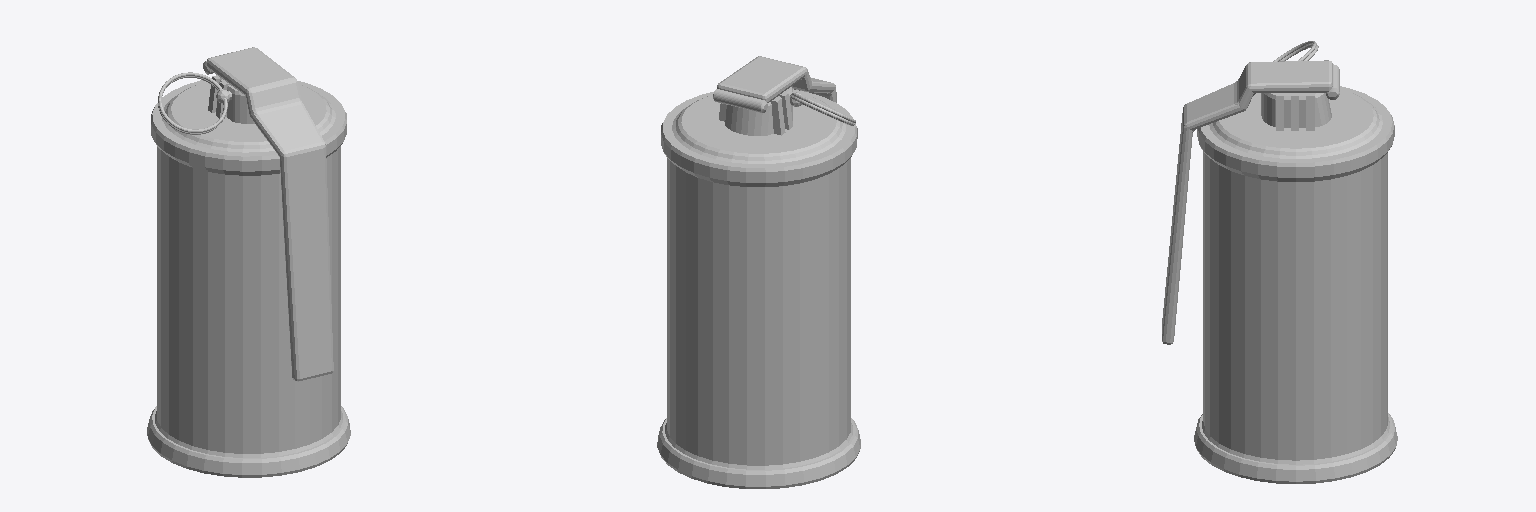
The model's file is Grenade_Closed.obj.
The picture shows the model from 3 angles: view 1: azimuth 30°, elevation 25°; view 2: azimuth 150°, elevation 25°; view 3: azimuth 270°, elevation 25°; orthographic projection.
Parts seen in each view (by area): view 1: Grenade_Closed_Cylinder.001; view 2: Grenade_Closed_Cylinder.001; view 3: Grenade_Closed_Cylinder.001.
Part boxes in pixels (left/top/right/bottom): Grenade_Closed_Cylinder.001: left=147, top=47, right=350, bottom=477; Grenade_Closed_Cylinder.001: left=657, top=56, right=860, bottom=488; Grenade_Closed_Cylinder.001: left=1162, top=41, right=1397, bottom=483.
Bounding box in the file's own units: 1.12 × 2.21 × 1.28.